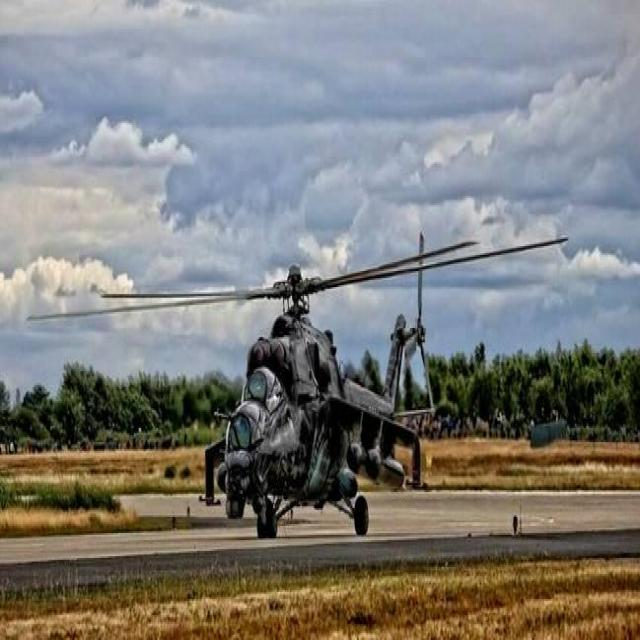MIL_HELO: (28, 218, 579, 540)
